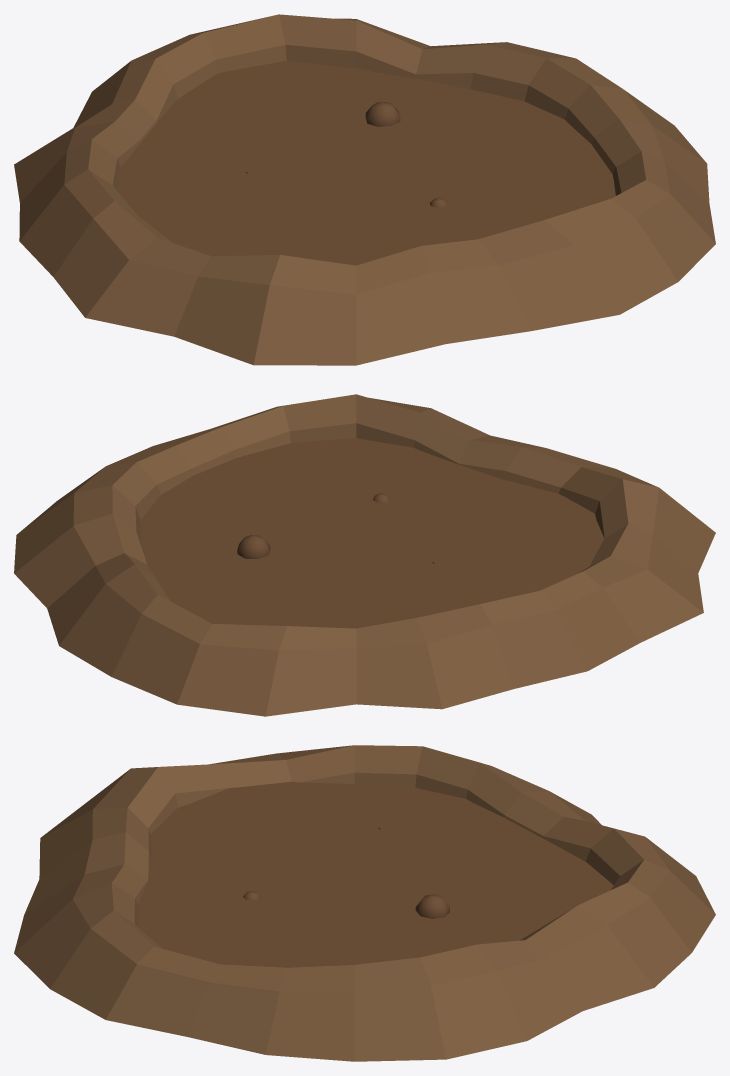
File: mud-pool-pixor.glb
3 renders of one model, top to bottom at view 1: azimuth 30°, elevation 25°; view 2: azimuth 150°, elevation 25°; view 3: azimuth 270°, elevation 25°, orthographic. The views are drawn at different scales.
Parts seen in each view (by area): view 1: Mud rim, Mud, Mud bubbles; view 2: Mud rim, Mud, Mud bubbles; view 3: Mud rim, Mud, Mud bubbles.
Part boxes in pixels (x1=…): Mud rim: x1=14, y1=14, x2=715, y2=365; Mud: x1=118, y1=61, x2=615, y2=265; Mud bubbles: x1=246, y1=102, x2=447, y2=207; Mud rim: x1=14, y1=394, x2=715, y2=716; Mud: x1=140, y1=438, x2=604, y2=628; Mud bubbles: x1=237, y1=493, x2=434, y2=563; Mud rim: x1=14, y1=745, x2=715, y2=1061; Mud: x1=137, y1=781, x2=613, y2=967; Mud bubbles: x1=243, y1=827, x2=449, y2=918.
Size of the model in its own units: 2.04 by 0.2089 by 2.05.
